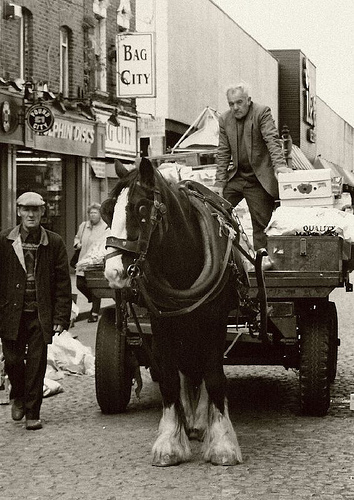horse: (104, 156, 245, 470)
